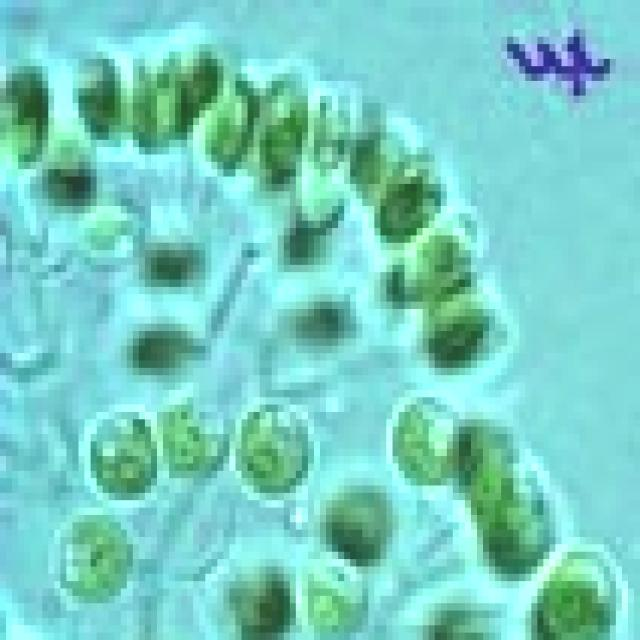Green Algae: (483, 471, 555, 581), (525, 559, 622, 640), (54, 508, 127, 603), (241, 397, 308, 500), (374, 147, 447, 236), (398, 220, 477, 302), (187, 74, 248, 176), (254, 66, 308, 177), (326, 471, 392, 559), (423, 294, 501, 368), (302, 552, 374, 632), (84, 412, 151, 493), (386, 390, 447, 478), (157, 405, 229, 478), (72, 59, 127, 147), (66, 198, 139, 264), (6, 59, 48, 169), (447, 419, 507, 493), (308, 88, 356, 177)
